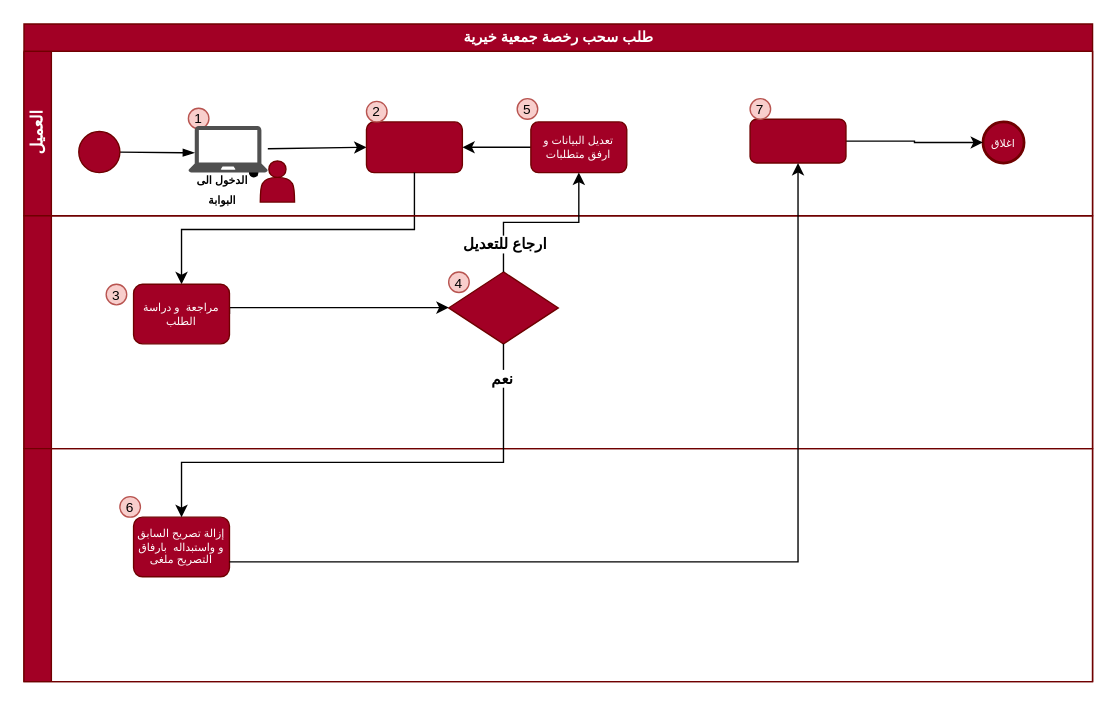
The diagram is 1117 pixels wide and 706 high, and some of its shapes have lost their labels. The box of each missing label's shape, as (x1, y1, x2, y2) in pixels:
اشعار العميل بالموافقة: (749, 118, 846, 163)
بداية: (77, 130, 120, 173)
تعبئة وتقديم نموذج الطلب: (365, 121, 462, 173)
رئيس القسم: (23, 447, 1093, 682)
مدير الادارة: (23, 214, 1093, 449)
موافقة؟: (447, 271, 558, 344)
